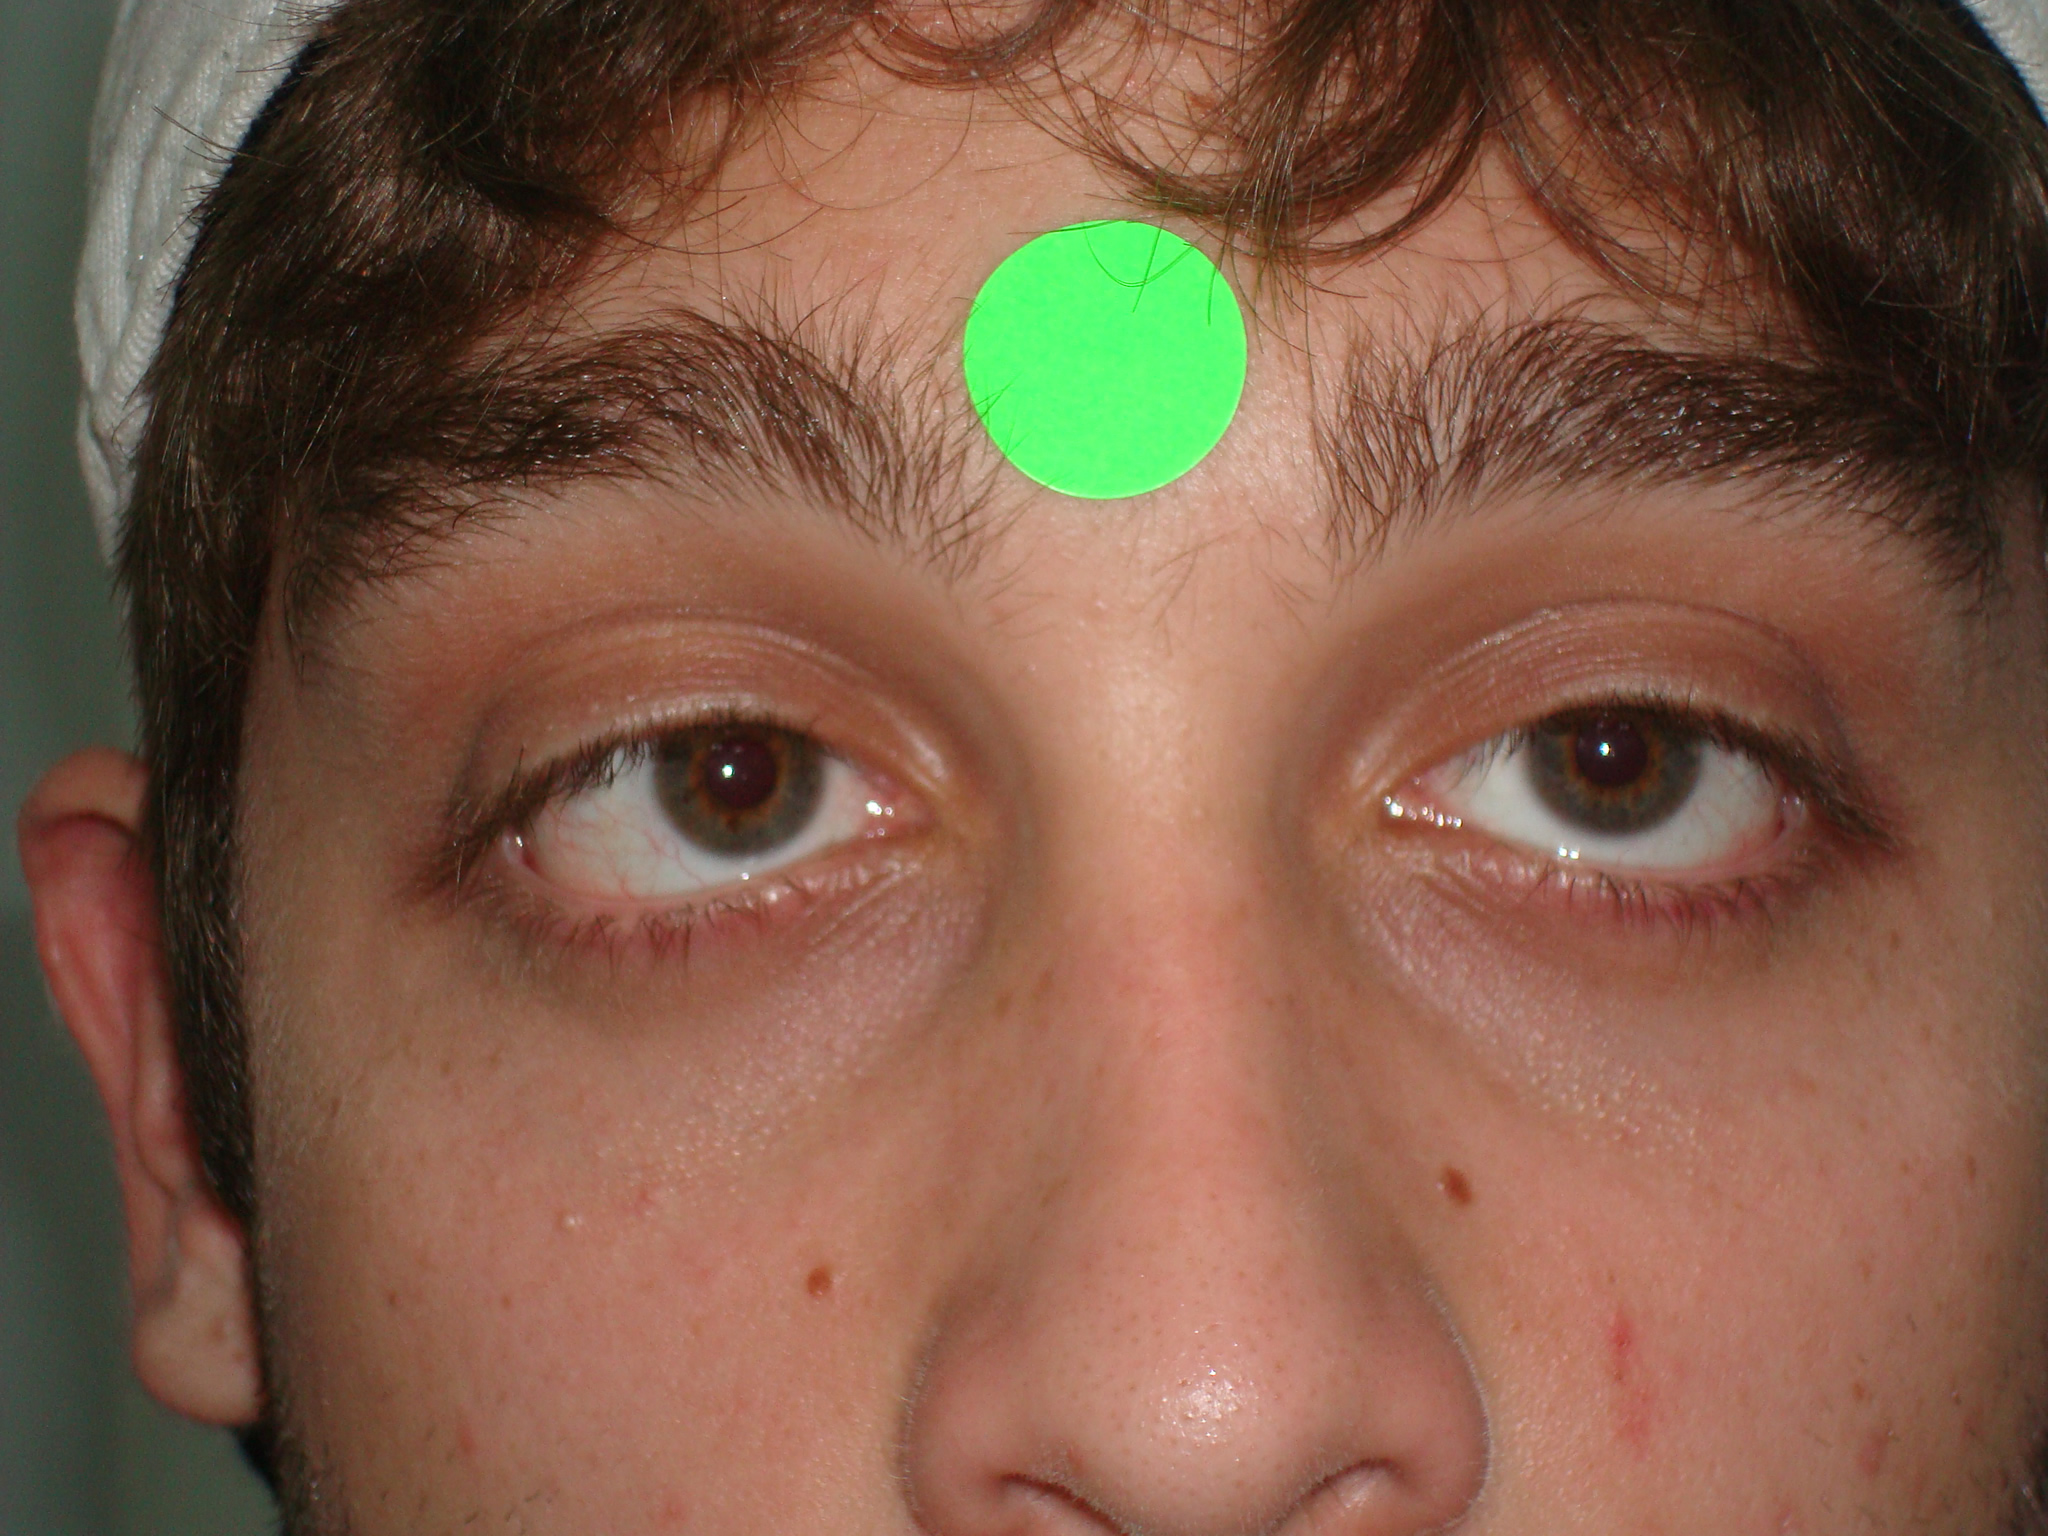flash: (711, 753, 745, 789), (1590, 736, 1621, 765)
limbo: (1522, 681, 1701, 821), (656, 700, 822, 845)
